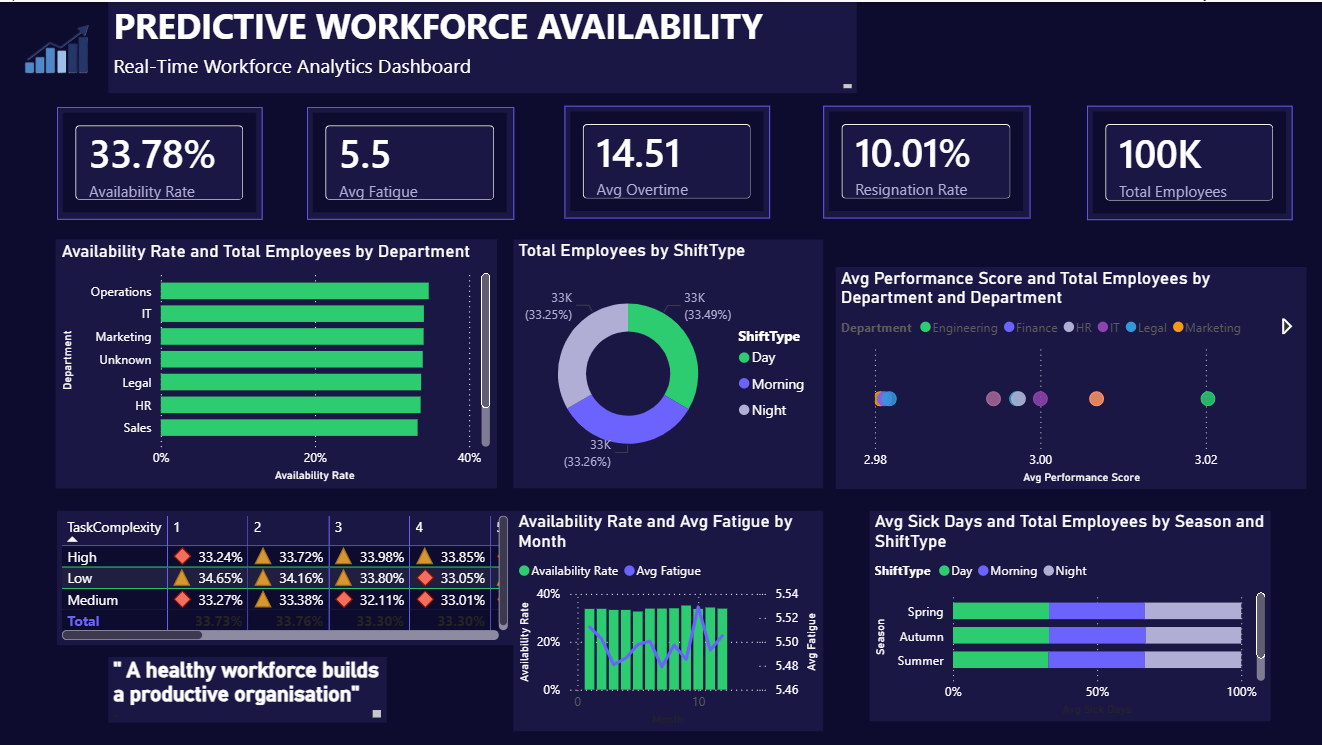

The page's visual inventory and layout, read from the dashboard file:
{"tool":"powerbi","page":{"name":"Page 1","canvas":[1280,720],"ordinal":0},"visuals":[{"type":"textbox","title":"PREDICTIVE WORKFORCE AVAILABILITY","box":[107.4,0,722.7,88.1],"z":0},{"type":"clusteredBarChart","fields":{"Category":["workforce_data.Department"],"Y":["workforce_data.Availability Rate"]},"box":[56.3,229.2,425.4,240.1],"z":1000},{"type":"donutChart","fields":{"Category":["workforce_data.ShiftType"],"Y":["workforce_data.Total Employees"]},"box":[498.1,229.2,299.1,240.1],"z":2000},{"type":"scatterChart","fields":{"Category":["workforce_data.Department"],"X":["workforce_data.Avg Performance Score"],"Size":["workforce_data.Total Employees"],"Series":["workforce_data.Department"]},"box":[809.6,255.2,454.2,214.1],"z":3000},{"type":"lineClusteredColumnComboChart","fields":{"Category":["workforce_data.Month"],"Y":["workforce_data.Availability Rate"],"Y2":["workforce_data.Avg Fatigue"]},"box":[498.1,491.3,299.1,212.7],"z":4000},{"type":"pivotTable","fields":{"Rows":["workforce_data.TaskComplexity"],"Columns":["workforce_data.Month"],"Values":["workforce_data.Availability Rate"]},"box":[57.8,491.5,440.5,129.4],"z":5000},{"type":"hundredPercentStackedBarChart","fields":{"Category":["workforce_data.Season"],"Y":["workforce_data.Avg Sick Days"],"Series":["workforce_data.ShiftType"]},"box":[842.5,491.3,387,203.1],"z":6000},{"type":"cardVisual","fields":{"Data":["workforce_data.Availability Rate"]},"box":[57.8,101.9,198.2,108.8],"z":7000},{"type":"cardVisual","fields":{"Data":["workforce_data.Avg Fatigue"]},"box":[298.7,101.9,199.6,108.8],"z":8000},{"type":"cardVisual","fields":{"Data":["workforce_data.Avg Overtime"]},"box":[547.9,100.5,198.2,108.8],"z":9000},{"type":"cardVisual","fields":{"Data":["workforce_data.Resignation Rate"]},"box":[797.1,100.5,199.6,108.8],"z":10000},{"type":"cardVisual","fields":{"Data":["workforce_data.Total Employees"]},"box":[1051.8,100.5,198.2,110.1],"z":11000},{"type":"image","box":[8.3,0,99.1,88.1],"z":11001},{"type":"textbox","title":"\" A healthy workforce builds a productive organisation\"","box":[107.4,631.9,268.4,63.3],"z":11002}]}

Visuals, with their boxes in screenshot pixels (x1, y1, x2, y2), scaled from the page's 1280x720 canvas onto the 1322x745 screenshot:
"PREDICTIVE WORKFORCE AVAILABILITY" textbox: (111,0,857,91)
clusteredBarChart - workforce_data.Department x workforce_data.Availability Rate: (58,237,498,486)
donutChart - workforce_data.ShiftType x workforce_data.Total Employees: (514,237,823,486)
scatterChart - workforce_data.Department x workforce_data.Avg Performance Score: (836,264,1305,486)
lineClusteredColumnComboChart - workforce_data.Month x workforce_data.Availability Rate: (514,508,823,728)
pivotTable - workforce_data.TaskComplexity x workforce_data.Month: (60,509,515,642)
hundredPercentStackedBarChart - workforce_data.Season x workforce_data.Avg Sick Days: (870,508,1270,719)
cardVisual - workforce_data.Availability Rate: (60,105,264,218)
cardVisual - workforce_data.Avg Fatigue: (309,105,515,218)
cardVisual - workforce_data.Avg Overtime: (566,104,771,217)
cardVisual - workforce_data.Resignation Rate: (823,104,1029,217)
cardVisual - workforce_data.Total Employees: (1086,104,1291,218)
image: (9,0,111,91)
"" A healthy workforce builds a productive organisation"" textbox: (111,654,388,719)
